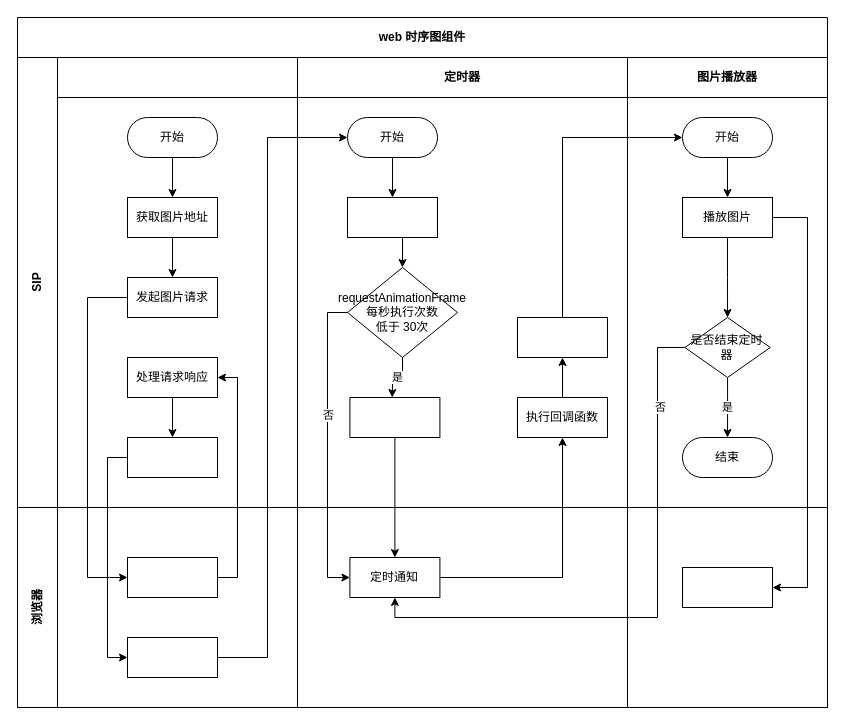
This 845x725 diagram has some shape labels left out. The shapes that lost their labels are listed below. From the top down, each one's box as (x1, y1, x2, y2) in pixels, then its label:
(346, 196, 438, 238): 设置定时器回调函数，FPS 30
(56, 56, 298, 508): 预加载器
(516, 316, 608, 358): 获取当前缓存图片
(349, 396, 440, 438): 设置 FPS 为 60
(126, 436, 218, 478): 完成加载
(126, 556, 218, 598): 发起 http 请求
(682, 566, 772, 608): 图片显示
(126, 636, 218, 678): 缓存图片资源
